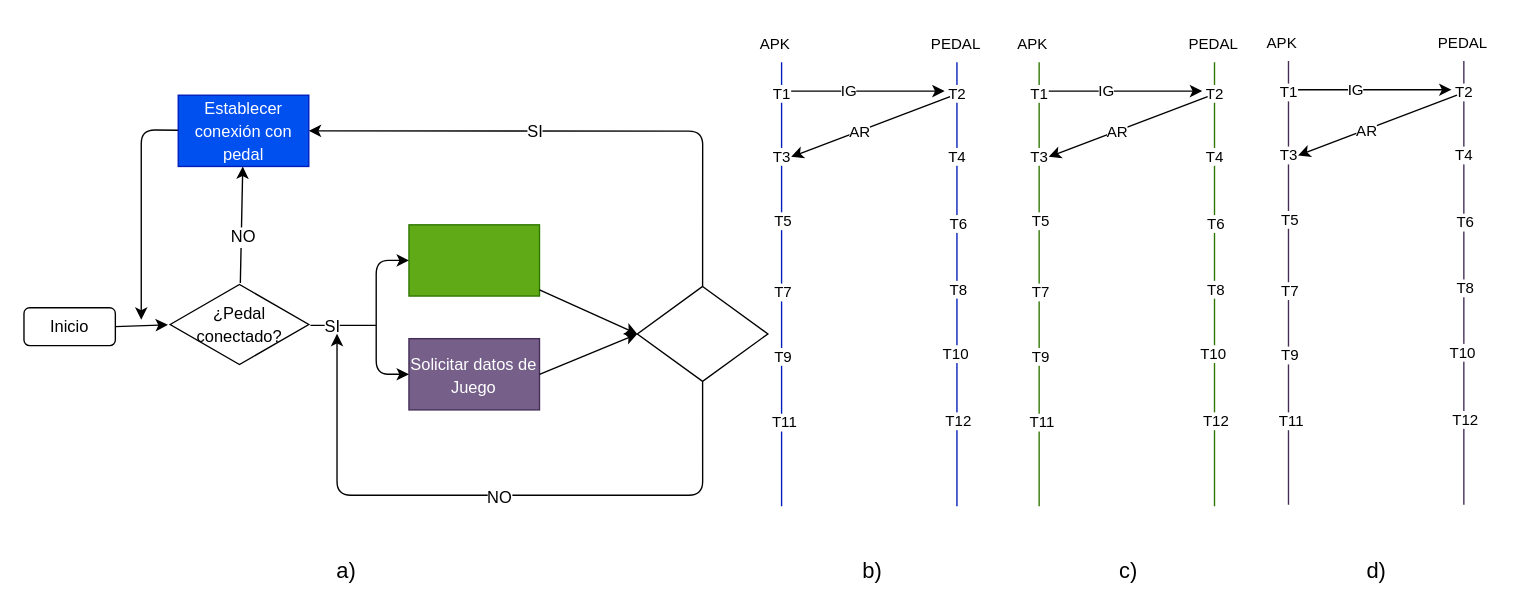
This 1528x615 diagram has some shape labels left out. The shapes that lost their labels are listed below. From the top down, each one's box as (x1, y1, x2, y2) in pixels, then its label:
(408, 223, 540, 296): Solicitar datos de Calibración
(636, 285, 768, 381): ¿Error de comunicación?
